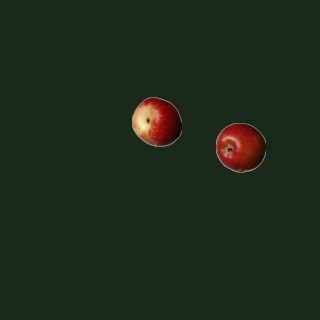Apple Braeburn: (215, 122, 265, 172)
Nectarine: (131, 96, 181, 146)
